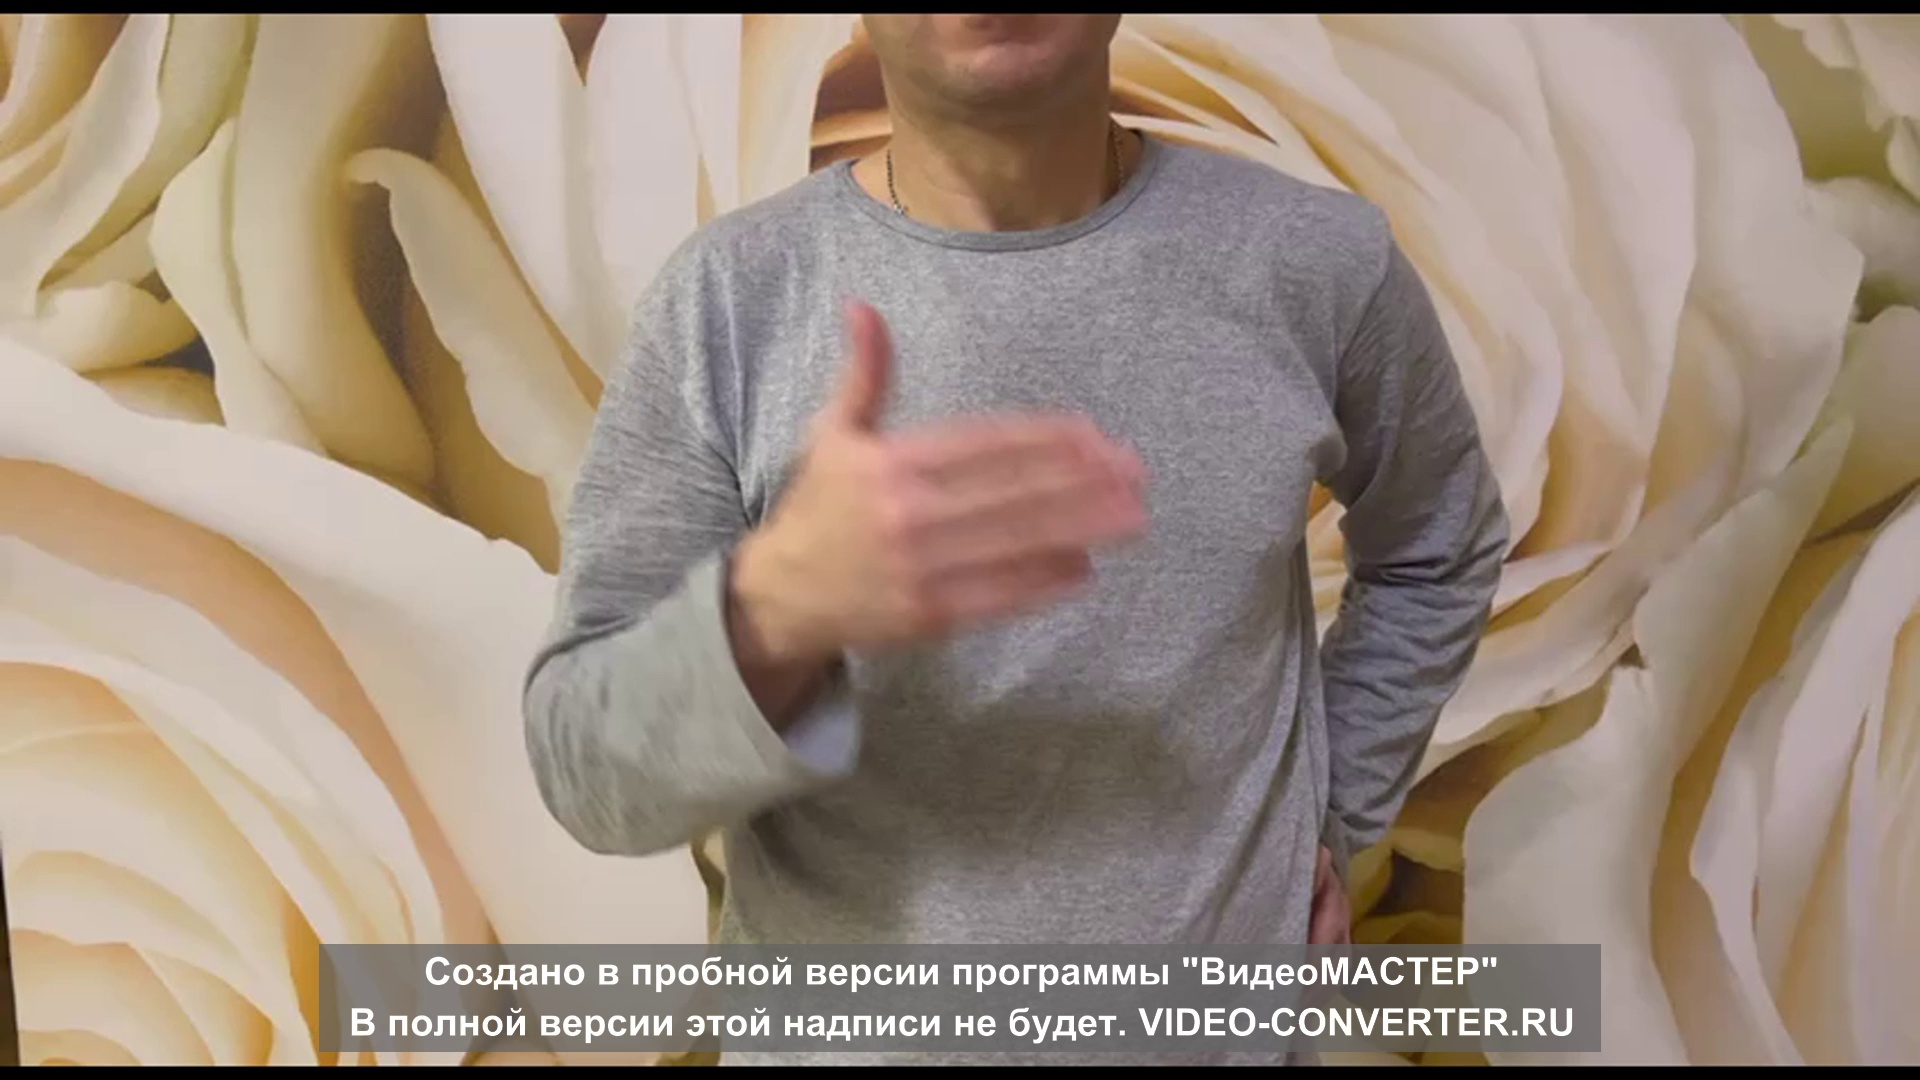Кисть: (729, 294, 1154, 666)
